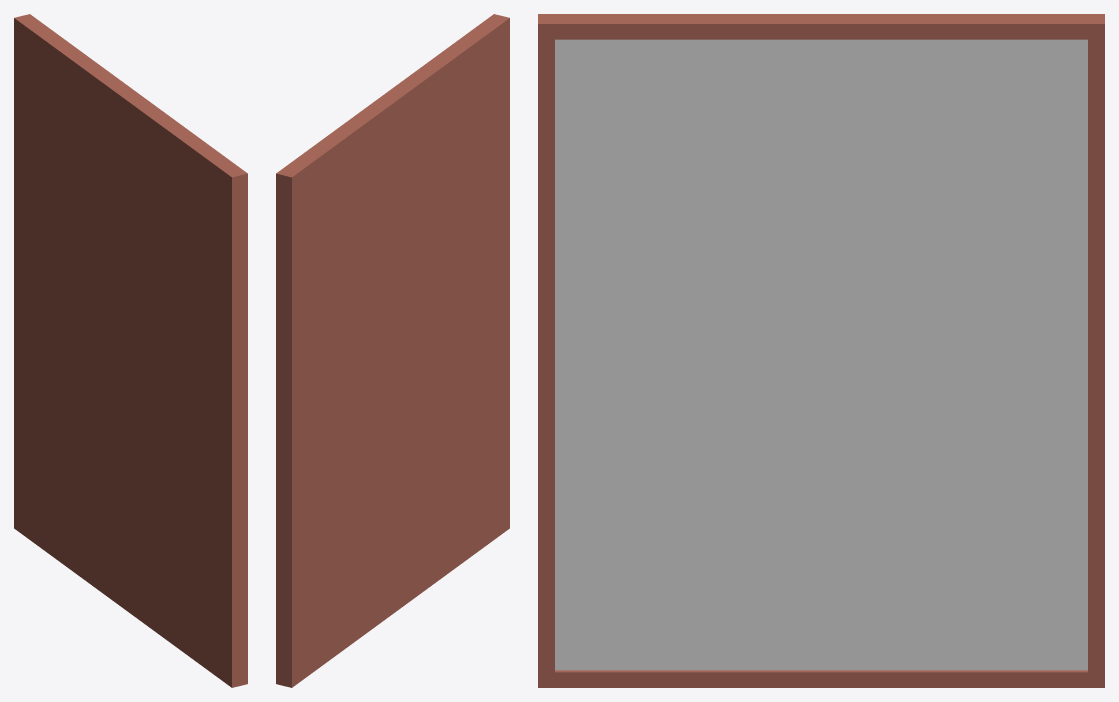
Rendered from whiteboard.fbx.
3 renders of one model, left to right at view 1: azimuth 30°, elevation 25°; view 2: azimuth 150°, elevation 25°; view 3: azimuth 270°, elevation 25°, orthographic. The views are drawn at different scales.
Parts seen in each view (by area): view 1: whiteboard; view 2: whiteboard; view 3: whiteboard.
Part boxes in pixels (bbox=[...]): whiteboard: bbox=[14, 14, 247, 687]; whiteboard: bbox=[276, 14, 509, 687]; whiteboard: bbox=[538, 14, 1104, 687].
Bounding box in the file's own units: 0.0864 × 2.65 × 2.05.
